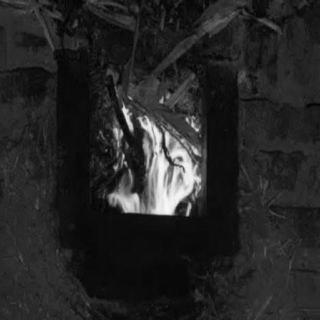Fire: (105, 100, 203, 228)
